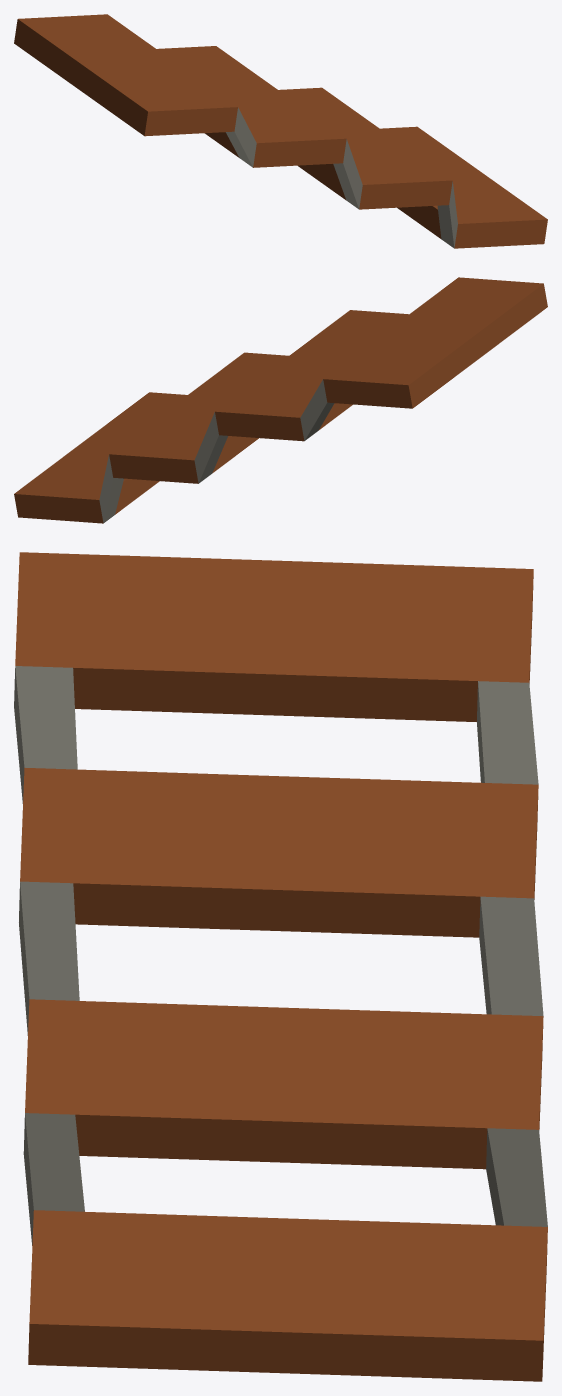
File: testeponte.fbx
3 views of the same model, one above another, from view 1: azimuth 30°, elevation 25°; view 2: azimuth 150°, elevation 25°; view 3: azimuth 270°, elevation 25° (orthographic). The views are drawn at different scales.
Visible parts, largest first — view 1: Cube; view 2: Cube; view 3: Cube.
Boxes of the visible parts, x1,y1,x2,y2 form: Cube: (14,14,547,248); Cube: (14,277,547,523); Cube: (14,552,547,1381).
Size of the model in its own units: 284 by 157 by 168.
